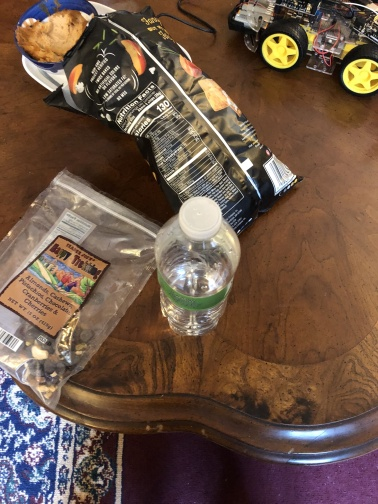bottle: (151, 194, 243, 339)
